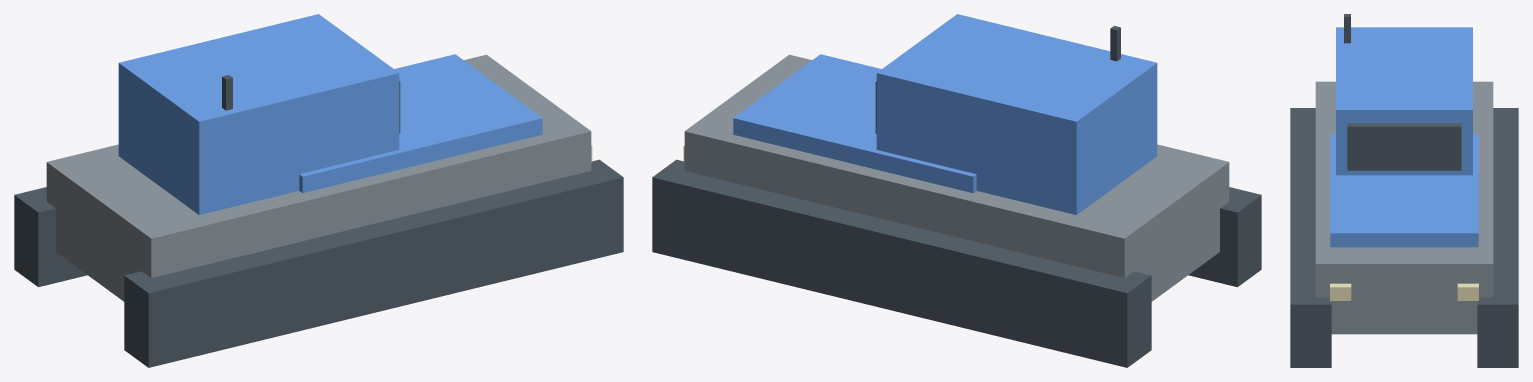
File: pantserwagen.glb
The picture shows the model from 3 angles, left to right: view 1: azimuth 30°, elevation 25°; view 2: azimuth 150°, elevation 25°; view 3: azimuth 270°, elevation 25°; orthographic projection. The views are drawn at different scales.
Parts seen in each view (by area): view 1: hull_team_LOD0, hull_dark_LOD0, hull_steel_LOD0; view 2: hull_team_LOD0, hull_dark_LOD0, hull_steel_LOD0; view 3: hull_team_LOD0, hull_dark_LOD0, hull_steel_LOD0, hull_lamp_LOD0.
Part boxes in pixels (left/top/right/bottom): hull_team_LOD0: left=118, top=14, right=542, bottom=214; hull_dark_LOD0: left=14, top=75, right=623, bottom=367; hull_steel_LOD0: left=46, top=54, right=591, bottom=301; hull_team_LOD0: left=733, top=14, right=1157, bottom=214; hull_dark_LOD0: left=652, top=26, right=1261, bottom=367; hull_steel_LOD0: left=684, top=54, right=1229, bottom=301; hull_team_LOD0: left=1330, top=27, right=1478, bottom=247; hull_dark_LOD0: left=1290, top=14, right=1518, bottom=367; hull_steel_LOD0: left=1315, top=81, right=1493, bottom=334; hull_lamp_LOD0: left=1330, top=283, right=1478, bottom=300.
Size of what is drawn, in the model's own units: 5.51 by 2.64 by 2.7.
